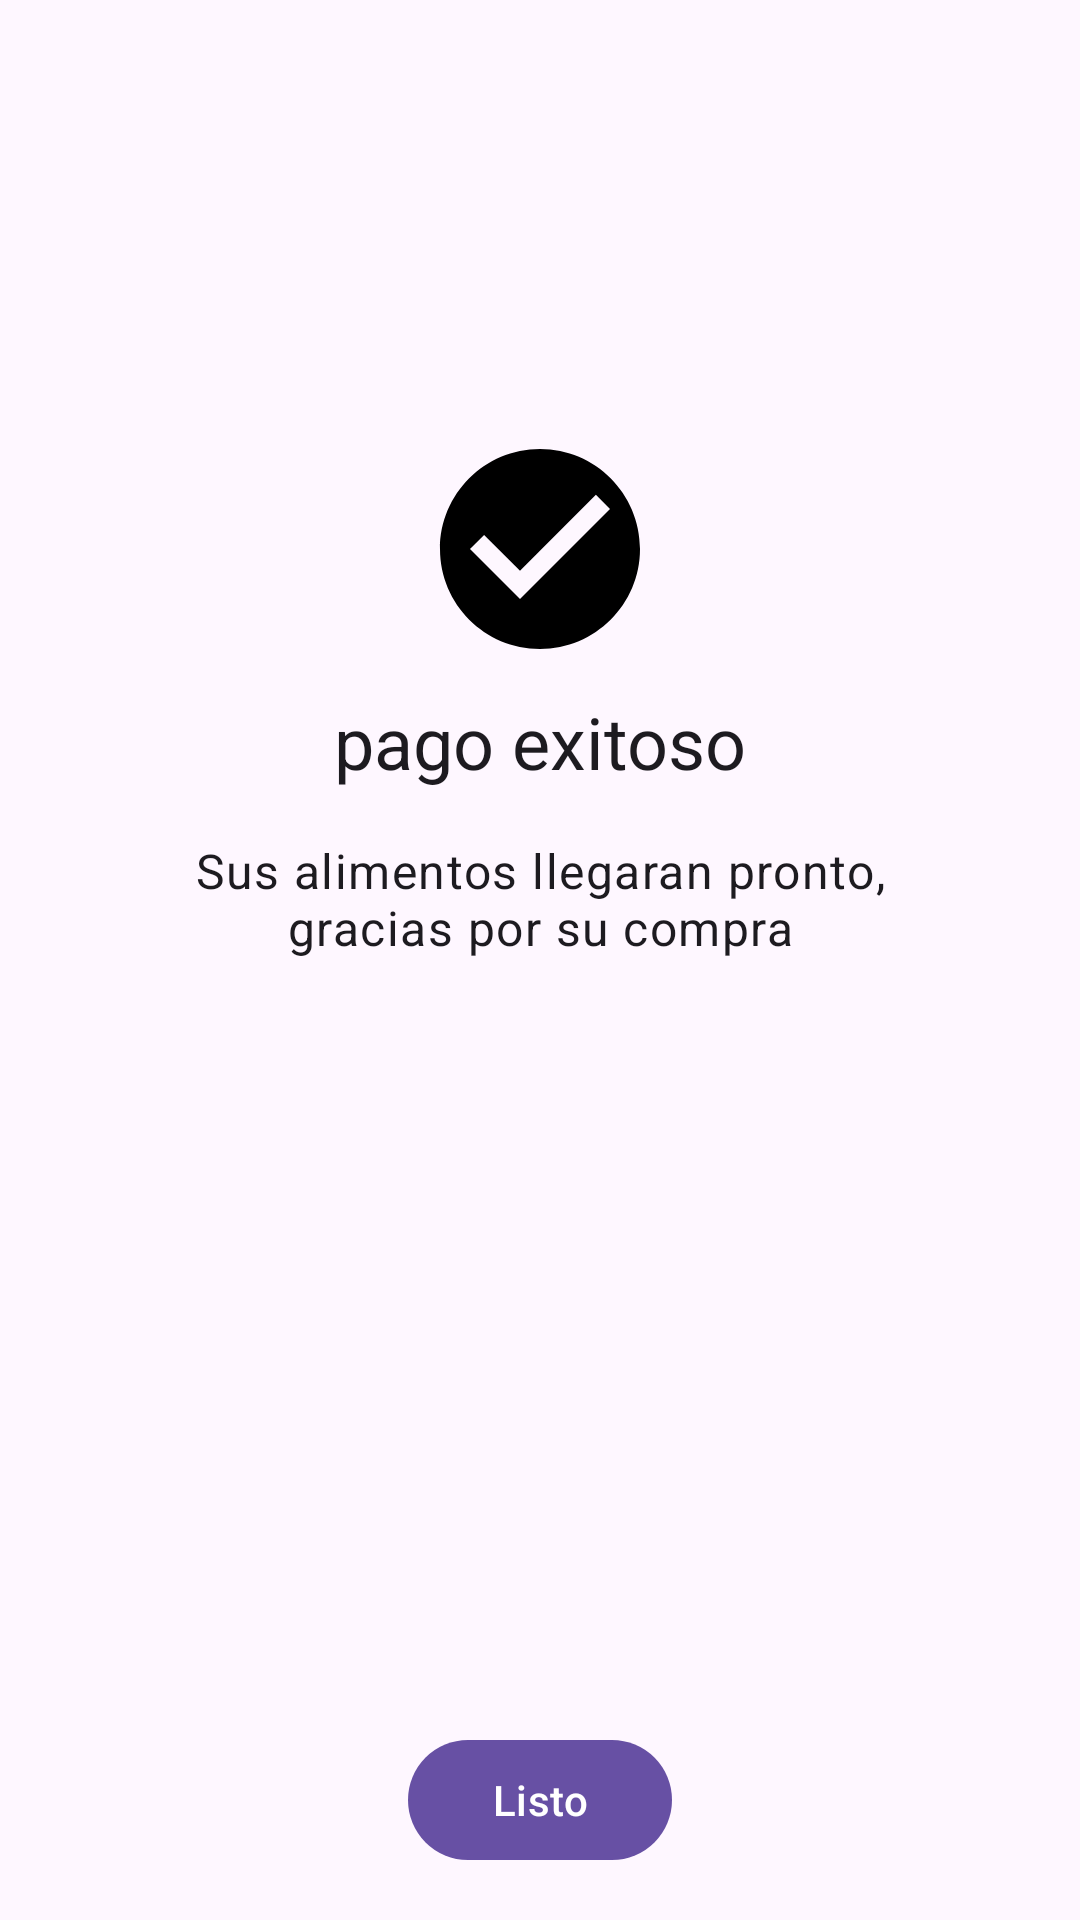

Icon click points for this 1080w x 1920h phone screenshot, format (x,y):
check circle: (539,549)
